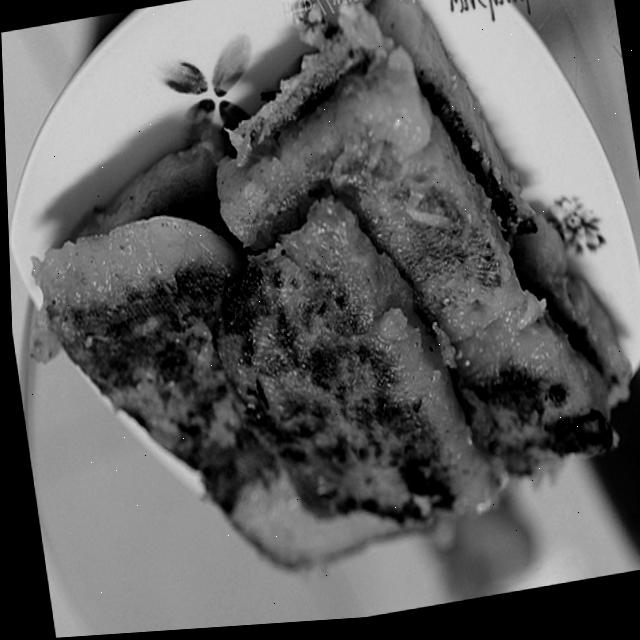蛋糕甜品: (17, 0, 631, 632)
